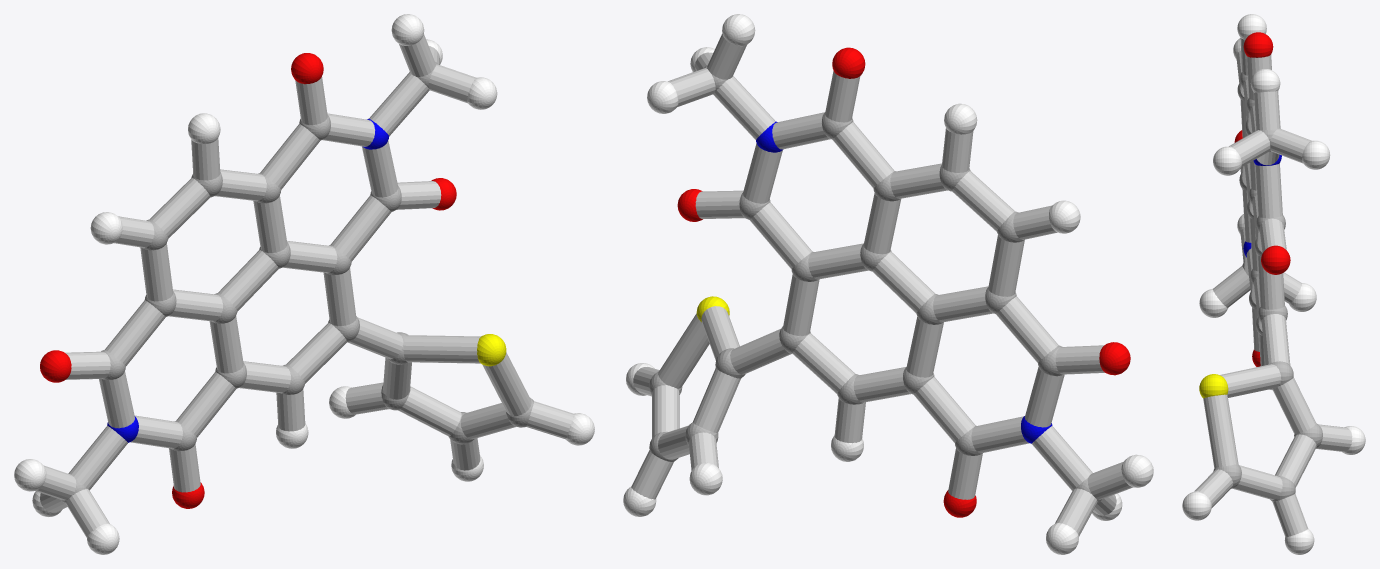
Rendered from Dimethyl_Naphthalene_Dicarboximide_Phi_20_Theta_230_Thiophene.glb.
The picture shows the model from 3 angles, left to right: view 1: azimuth 30°, elevation 25°; view 2: azimuth 150°, elevation 25°; view 3: azimuth 270°, elevation 25°; orthographic projection. The views are drawn at different scales.
Visible parts, largest first — view 1: grp14119, grp7241, grp1, grp12309, grp13757, grp11585; view 2: grp14119, grp7241, grp1, grp12309, grp11585; view 3: grp14119, grp7241, grp1, grp12309, grp13757.
Part boxes in pixels (x1,y1,x2,y2): grp14119: (35, 34, 573, 537); grp7241: (14, 14, 594, 554); grp1: (60, 62, 533, 503); grp12309: (40, 53, 456, 508); grp13757: (477, 334, 506, 366); grp11585: (107, 118, 389, 442); grp14119: (631, 34, 1132, 536); grp7241: (623, 14, 1153, 554); grp1: (649, 65, 1101, 503); grp12309: (677, 47, 1130, 517); grp11585: (756, 121, 1052, 443); grp14119: (1194, 38, 1352, 536); grp7241: (1182, 14, 1365, 554); grp1: (1213, 72, 1322, 501); grp12309: (1234, 32, 1290, 366); grp13757: (1199, 374, 1228, 398).
Size of the model in its own units: 11.56 by 10.07 by 3.73.
